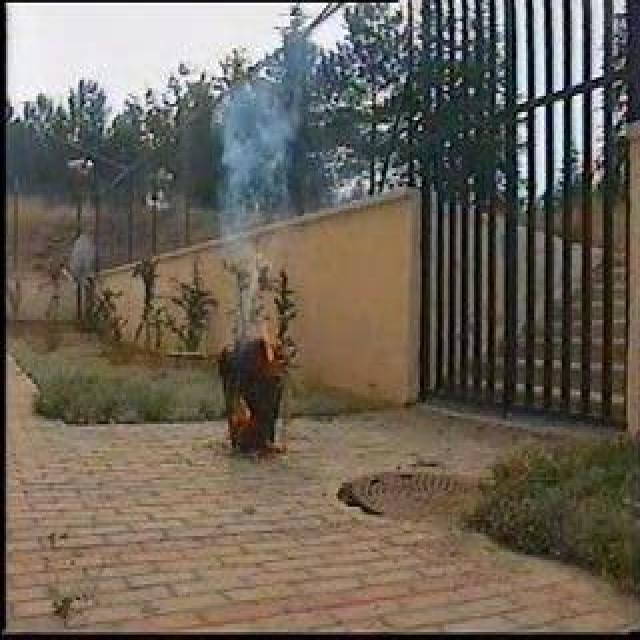Fire: (256, 306, 282, 362)
Smoke: (213, 67, 283, 272)
